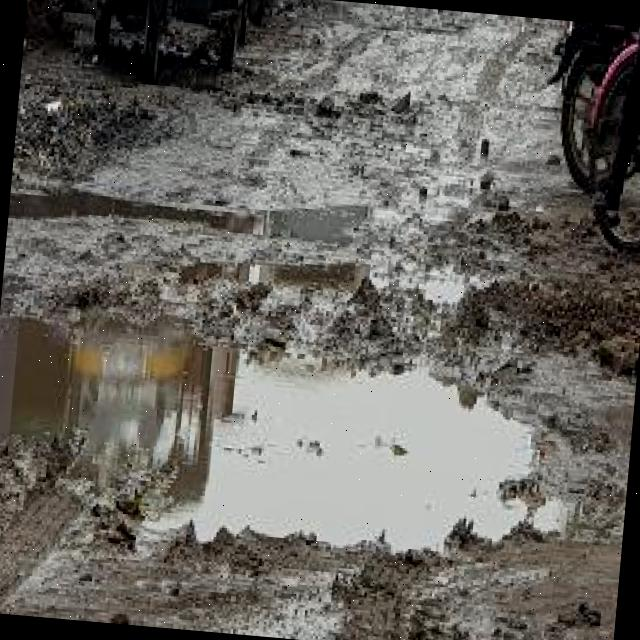stagnation: (0, 322, 543, 568)
